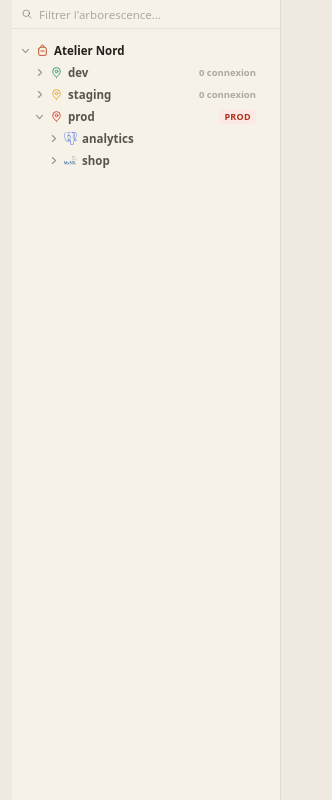
le filtre affiche son compteur, et seulement quand il est actif
This screenshot has width=332, height=800.
Type "analytics" into the field labelled "Filtrer l'arborescence…" at x=155, y=14, box x1=39 y1=6 x2=271 y2=22
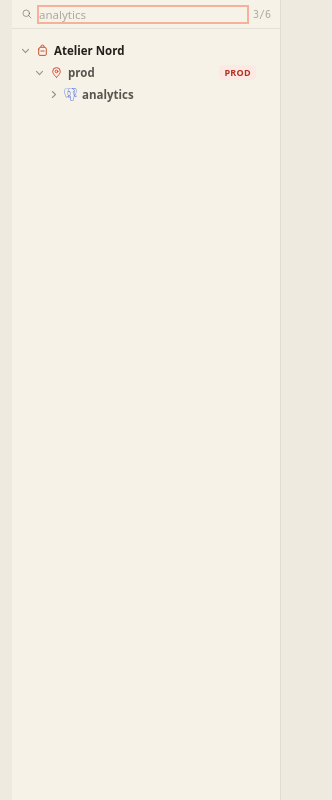
expect the text "3/6" is shown: met, box x1=253 y1=8 x2=271 y2=20
